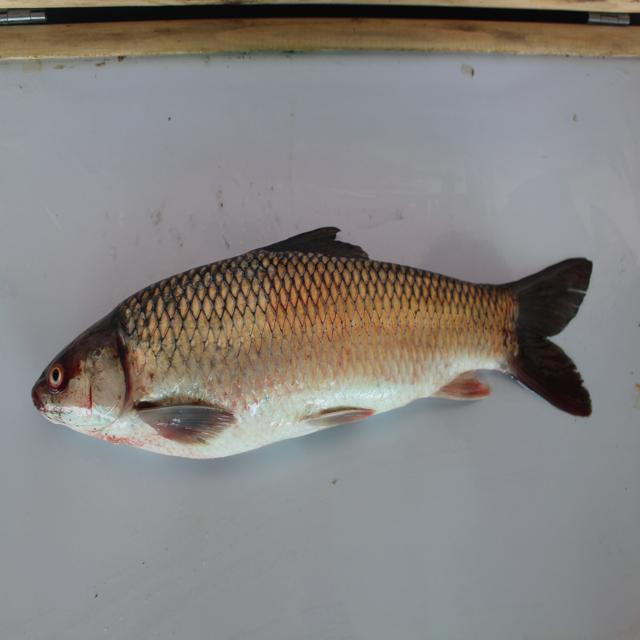Mori: (29, 213, 608, 488)
